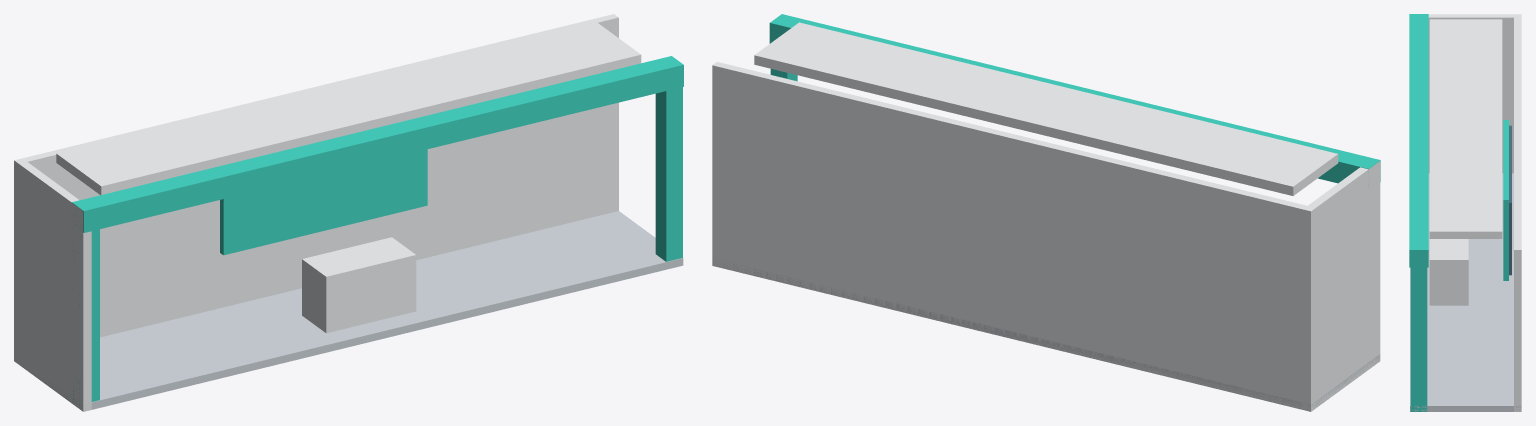
The picture shows the model from 3 angles, left to right: view 1: azimuth 30°, elevation 25°; view 2: azimuth 150°, elevation 25°; view 3: azimuth 270°, elevation 25°; orthographic projection. The views are drawn at different scales.
Parts seen in each view (by area): view 1: Exhibition Booth Concept; view 2: Exhibition Booth Concept; view 3: Exhibition Booth Concept.
Part boxes in pixels (left/top/right/bottom): Exhibition Booth Concept: left=14, top=14, right=683, bottom=411; Exhibition Booth Concept: left=712, top=14, right=1380, bottom=411; Exhibition Booth Concept: left=1409, top=14, right=1521, bottom=411.
Bounding box in the file's own units: 10 × 3.34 × 2.01.
